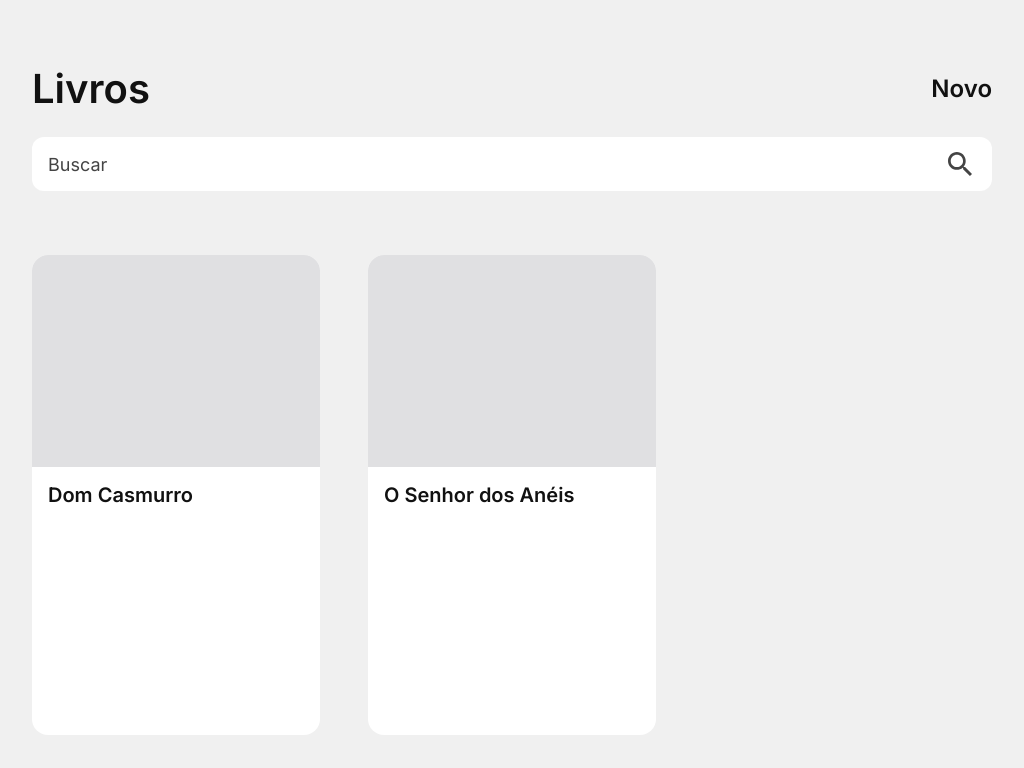
Test: ListaLivros › abre o modal de cadastro ao clicar em "Novo"
This screenshot has width=1024, height=768.
Click the button "Novo": (962, 88) [931,74,992,103]
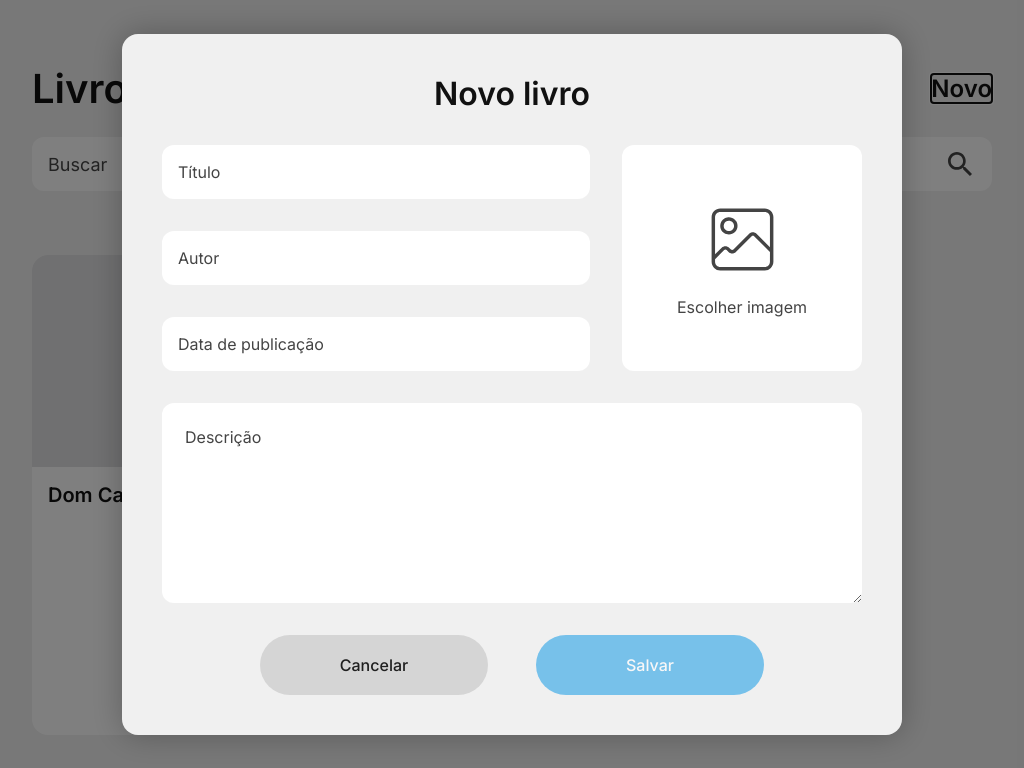
Result: the heading "Novo livro" is shown at [434,74,590,112]
